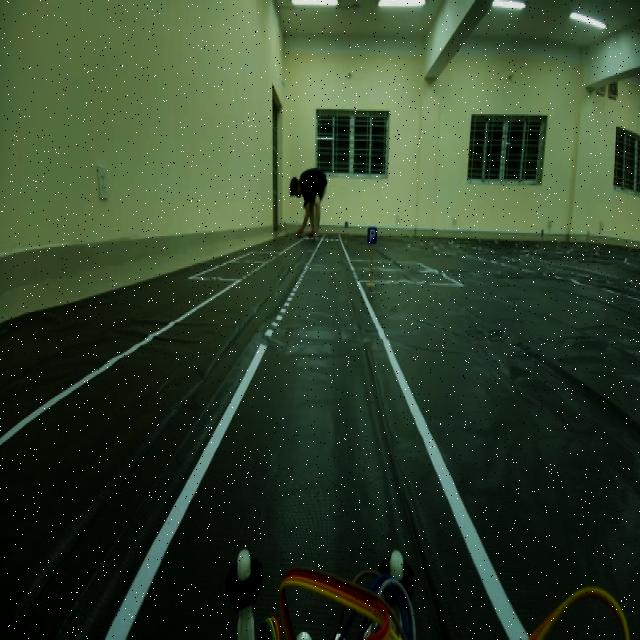parking: (365, 214, 379, 253)
